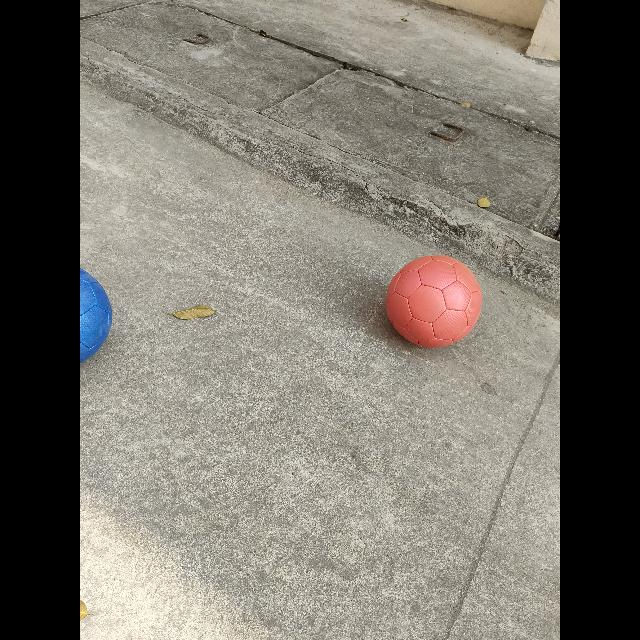B: (80, 267, 113, 368)
R: (385, 256, 483, 350)
